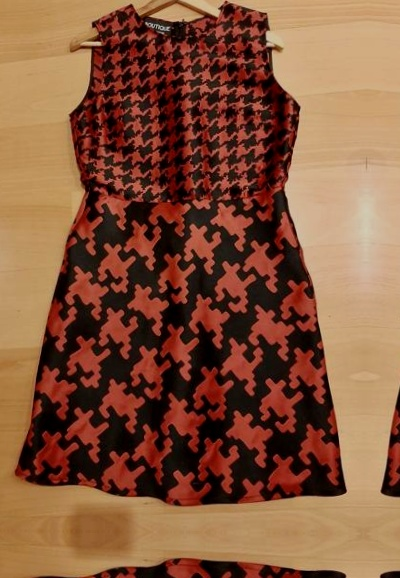Dress: (18, 0, 360, 513), (372, 0, 400, 516), (13, 552, 356, 578), (367, 555, 400, 578)
